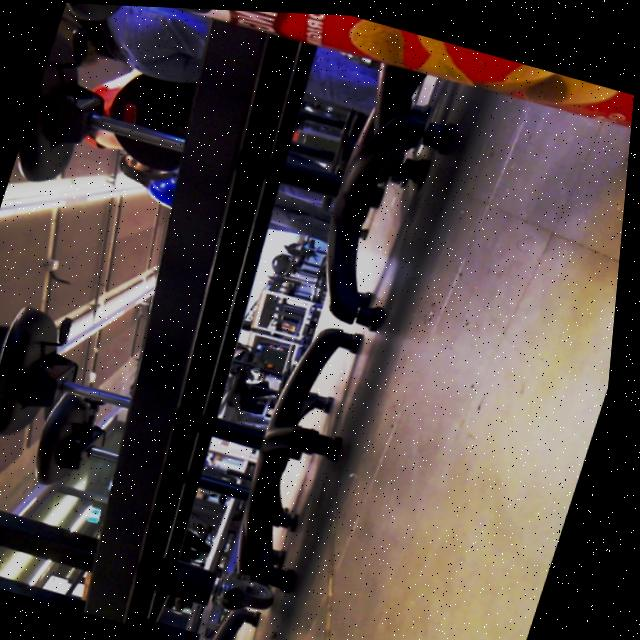redpringles: (45, 2, 640, 200)
